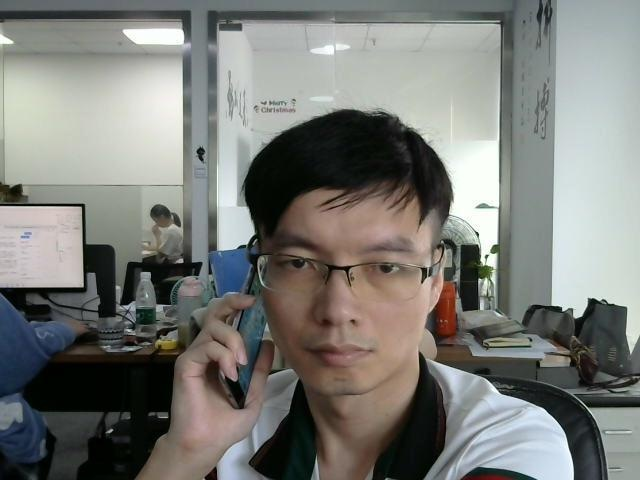hand: (172, 294, 275, 441)
